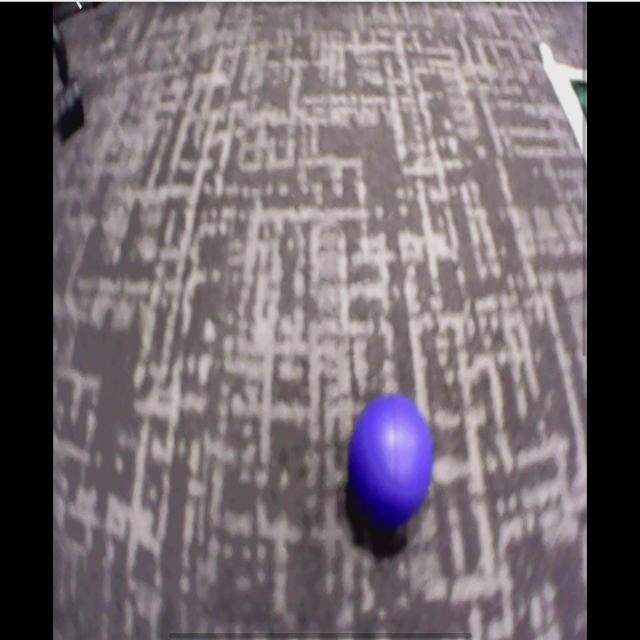ball: (350, 394, 434, 531)
